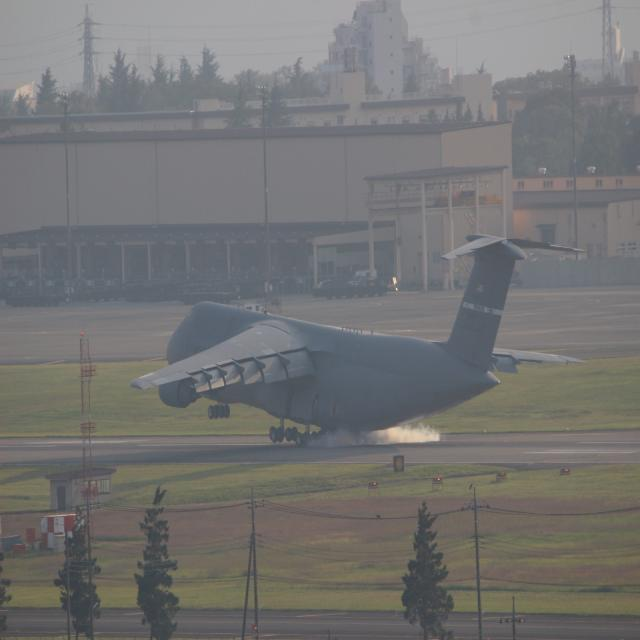MIL_Plane: (129, 234, 588, 448)
